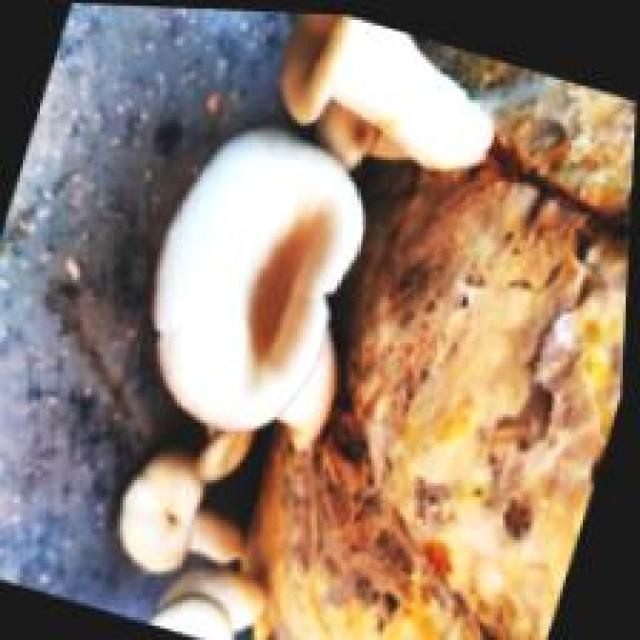chanterelle: (111, 17, 632, 637)
